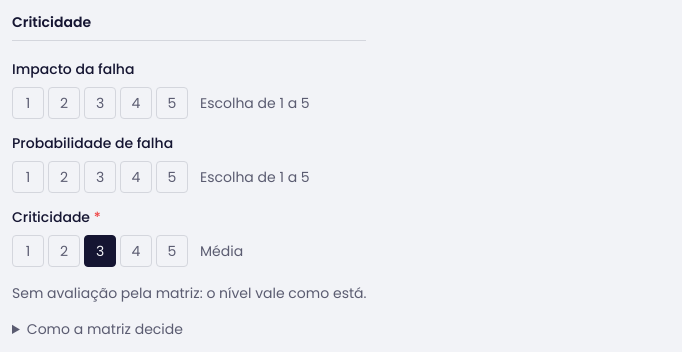
Test case: CriticidadePelaMatriz › as duas notas sugerem o nível e já o escolhem
The image size is (682, 352).
Expected: the text "Sem avaliação pela matriz: o nível vale como está." is shown, [12, 283, 366, 303]
Click the radio button labelled "5" below "Impacto da falha" at [172, 103], box [156, 87, 188, 119]
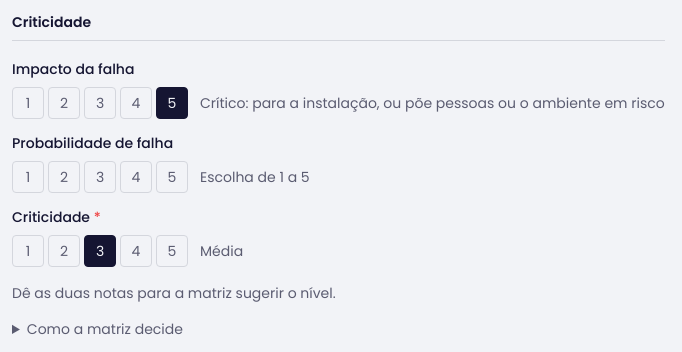
Expected: the message shows "Dê as duas notas", [12, 283, 336, 303]
Click the radio button labelled "1" in the row of "Escolha de 1 a 5" at [28, 177], box [12, 161, 44, 193]
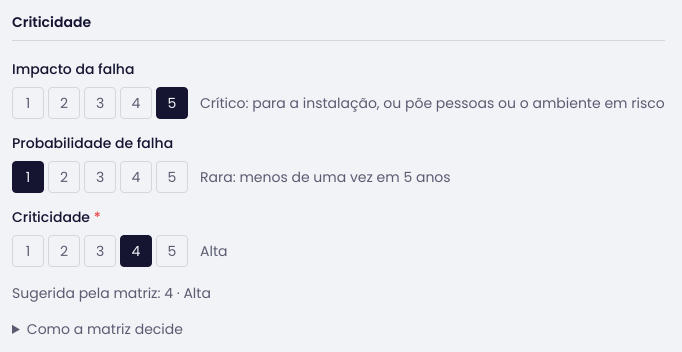
Expected: the text "Sugerida pela matriz: 4 · Alta" is shown, [12, 283, 211, 303]
